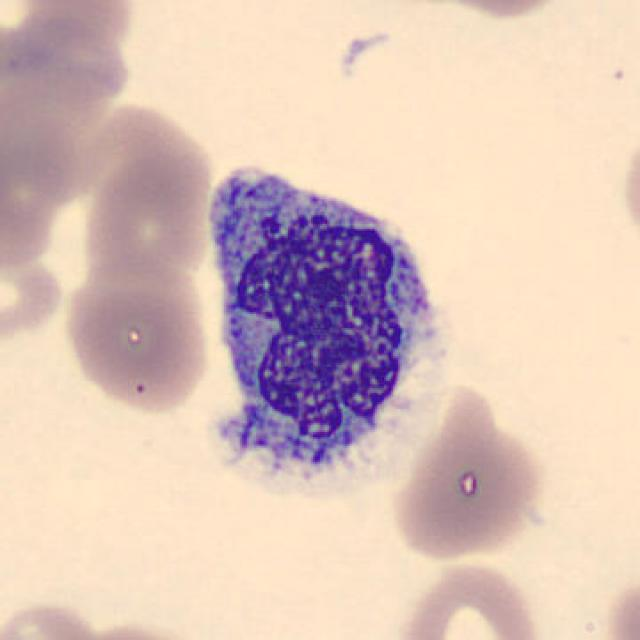Monocyte: (196, 150, 458, 509)
RBC: (386, 386, 551, 566), (60, 275, 214, 418), (78, 143, 215, 287), (391, 557, 549, 640), (0, 0, 139, 74), (0, 224, 69, 352), (0, 597, 110, 640), (406, 0, 580, 21), (73, 617, 219, 640), (617, 113, 640, 254), (601, 564, 640, 640)
